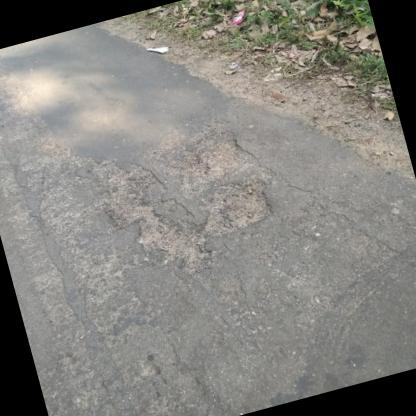pothole: (83, 112, 295, 294)
